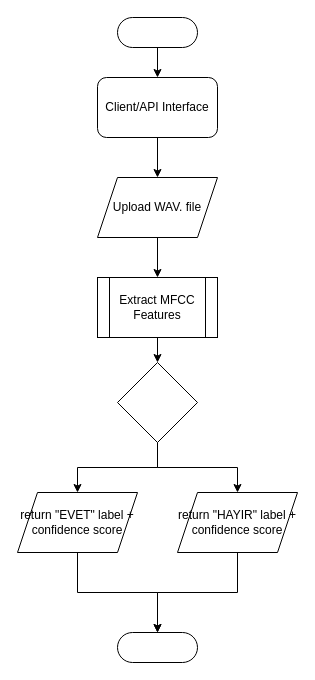
This 315x680 diagram has some shape labels left out. The centre of each missing label's shape, as x and y in pixels:
"End" goes at pixel 157 647.
"Prediction" goes at pixel 157 402.
"Start" goes at pixel 157 32.
